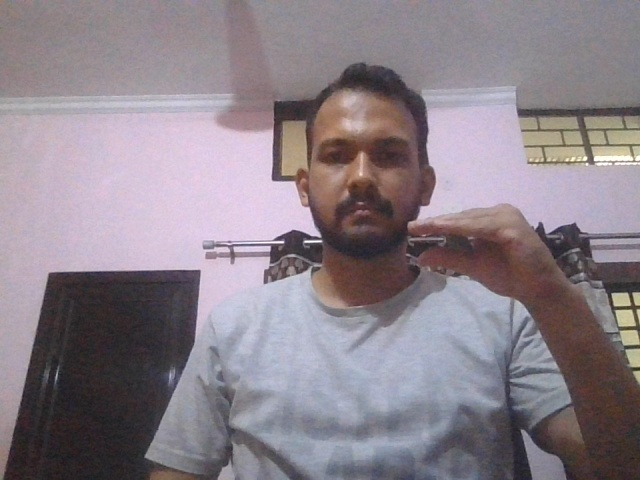no: (406, 204, 568, 301)
